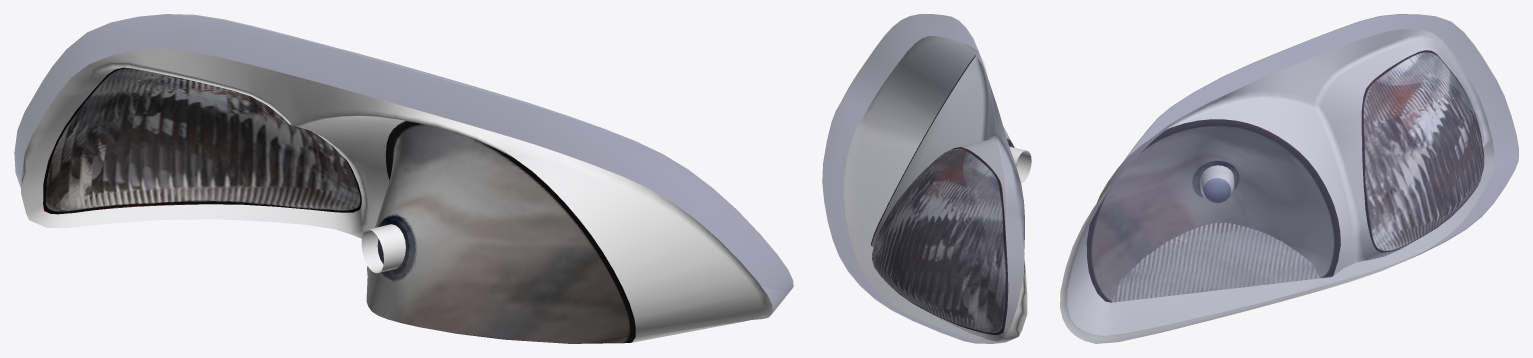
The picture shows the model from 3 angles, left to right: view 1: azimuth 30°, elevation 25°; view 2: azimuth 150°, elevation 25°; view 3: azimuth 270°, elevation 25°; orthographic projection. The views are drawn at different scales.
Visible parts, largest first — view 1: H025_10_061B_L_H025_10_061B_L_2_N, H025_10_061B_L_1_DTaSI_H025_10_061B_L; view 2: H025_10_061B_L_1_DTaSI_H025_10_061B_L, H025_10_061B_L_H025_10_061B_L_2_N; view 3: H025_10_061B_L_1_DTaSI_H025_10_061B_L, H025_10_061B_L_H025_10_061B_L_2_N.
Part boxes in pixels (bbox=[...]): H025_10_061B_L_H025_10_061B_L_2_N: bbox=[21, 48, 772, 343]; H025_10_061B_L_1_DTaSI_H025_10_061B_L: bbox=[14, 14, 793, 313]; H025_10_061B_L_1_DTaSI_H025_10_061B_L: bbox=[822, 14, 1024, 343]; H025_10_061B_L_H025_10_061B_L_2_N: bbox=[843, 36, 1031, 343]; H025_10_061B_L_1_DTaSI_H025_10_061B_L: bbox=[1060, 14, 1518, 343]; H025_10_061B_L_H025_10_061B_L_2_N: bbox=[1060, 29, 1494, 343].
Bounding box in the file's own units: 36.95 × 18.15 × 38.69.
